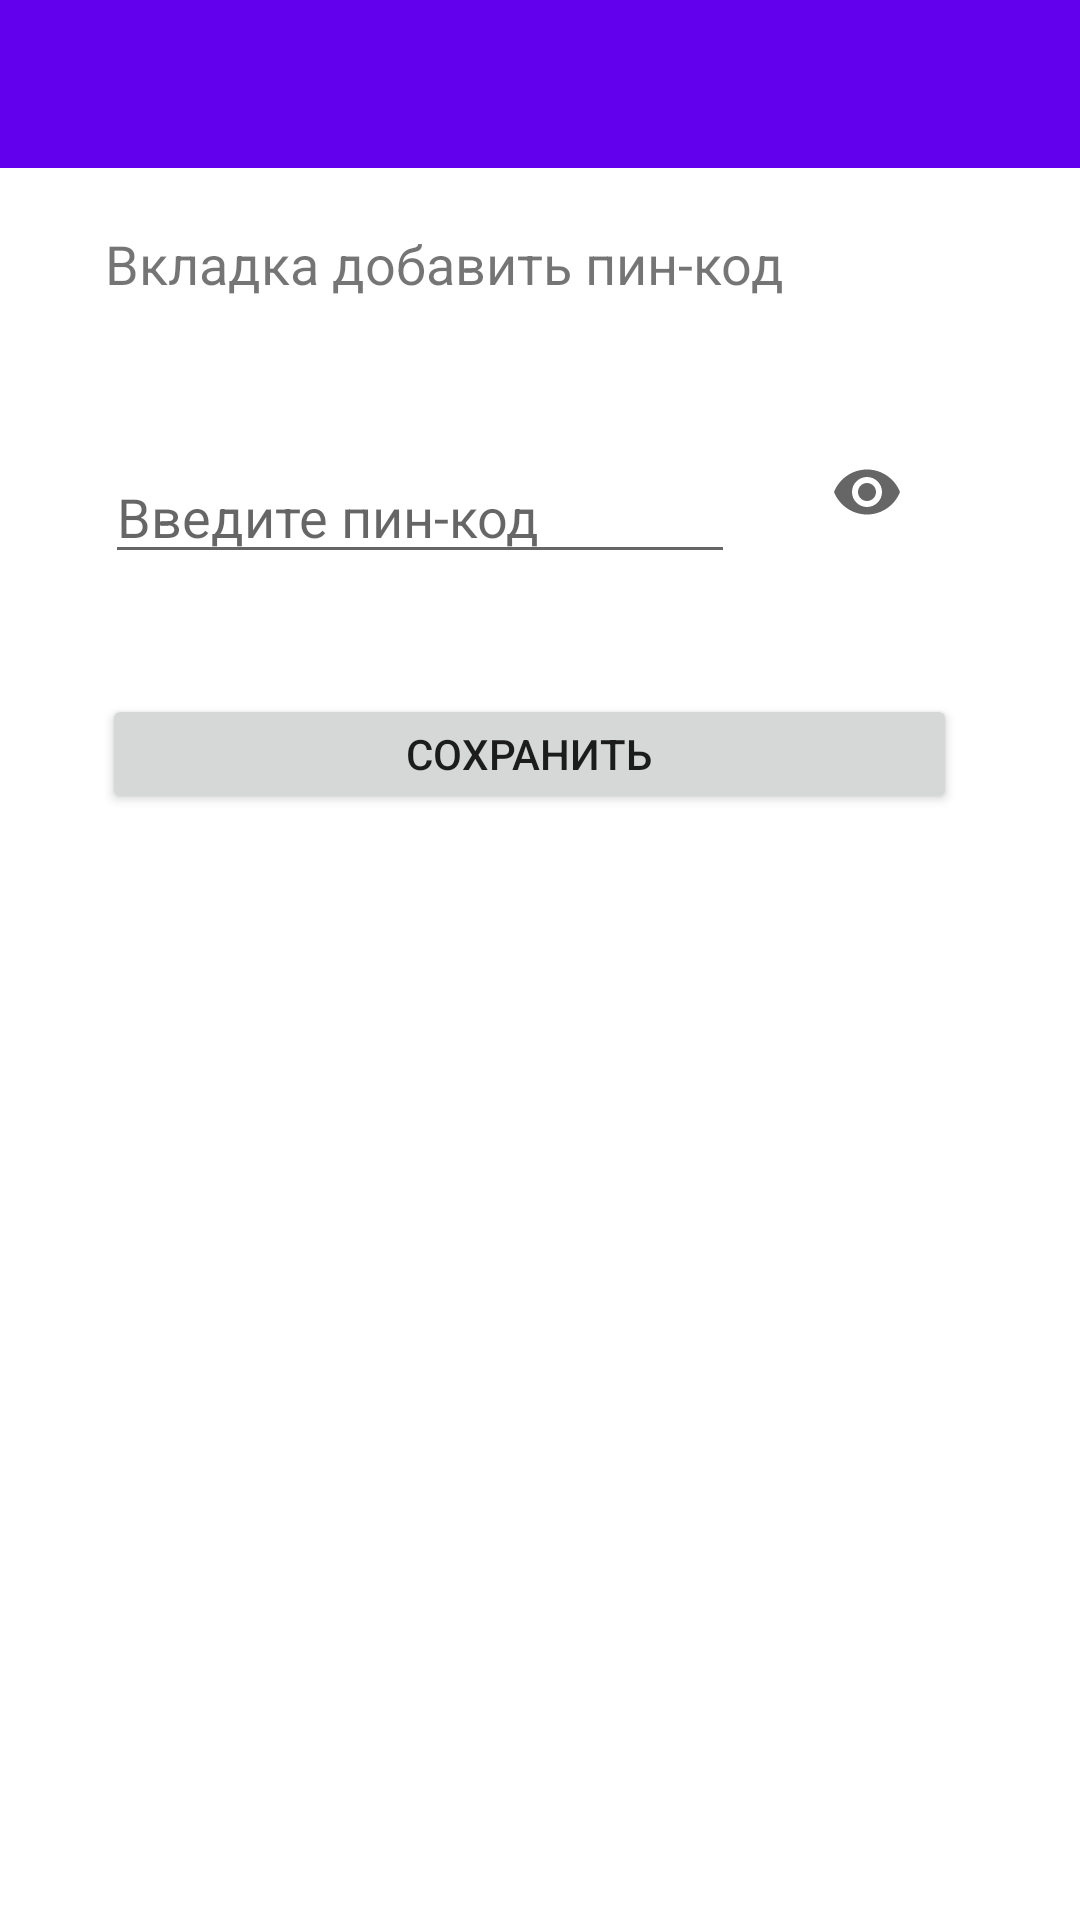

Named icons in this screenshot (1080 × 1920) and their bounding boxes, (x1, y1, x2, y2):
visibility: (834, 469, 900, 515)
